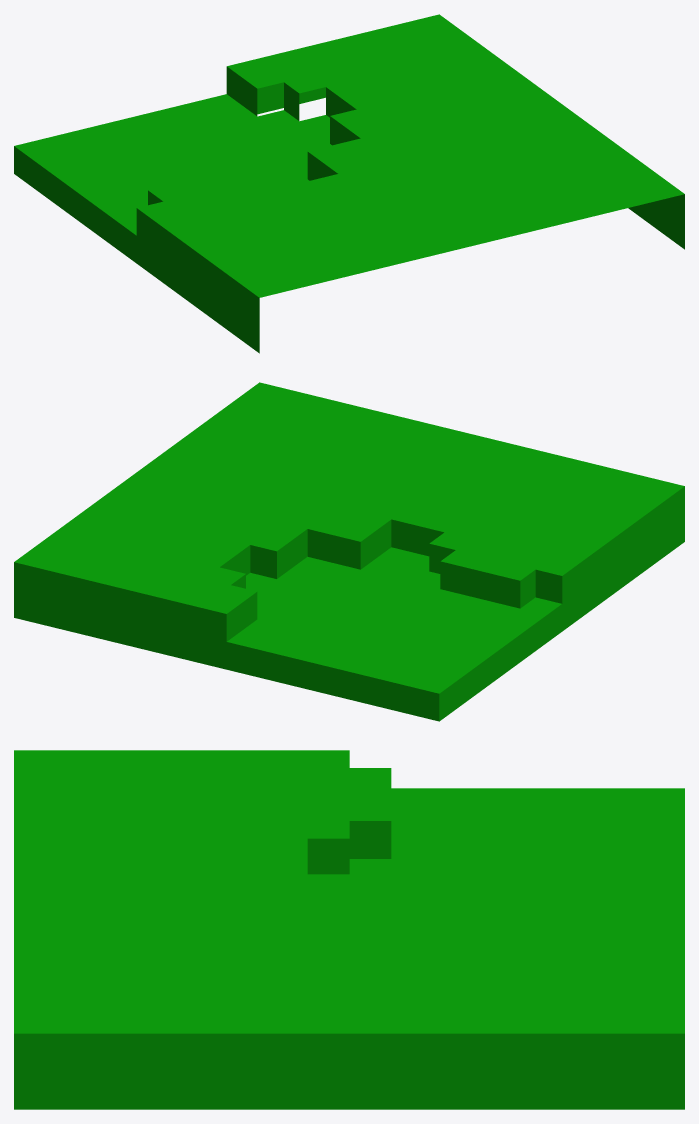
Rendered from Corner9.fbx.
3 renders of one model, top to bottom at view 1: azimuth 30°, elevation 25°; view 2: azimuth 150°, elevation 25°; view 3: azimuth 270°, elevation 25°, orthographic. The views are drawn at different scales.
Parts seen in each view (by area): view 1: Matrix; view 2: Matrix; view 3: Matrix.
Part boxes in pixels (x1,y1,x2,y2): Matrix: (14,14,684,353); Matrix: (14,382,684,721); Matrix: (14,750,684,1109).
Bounding box in the file's own units: 16 × 2 × 16.
Materials: 1 (1 with a texture image).
